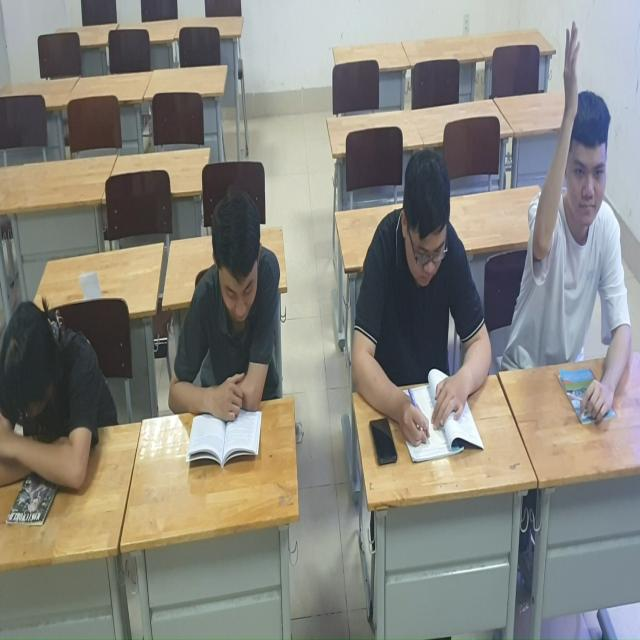raise_hand: (518, 1, 636, 437)
read: (347, 144, 497, 482), (160, 160, 294, 475)
sleep: (2, 296, 112, 525)
